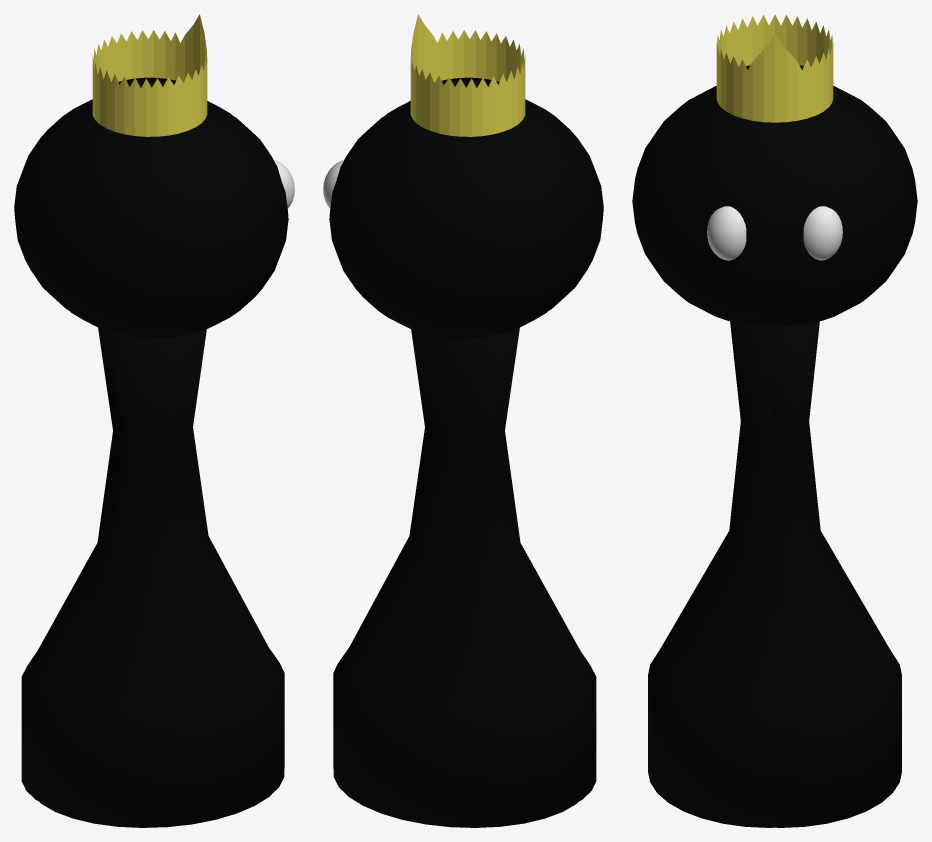
The model's file is BlackQueen.fbx.
The picture shows the model from 3 angles, left to right: view 1: azimuth 30°, elevation 25°; view 2: azimuth 150°, elevation 25°; view 3: azimuth 270°, elevation 25°; orthographic projection.
Visible parts, largest first — view 1: BlackQueen; view 2: BlackQueen; view 3: BlackQueen.
Part boxes in pixels (x1,y1,x2,y2): BlackQueen: (14,14,294,827); BlackQueen: (323,14,603,827); BlackQueen: (632,14,917,827).
Bounding box in the file's own units: 65.33 × 199 × 67.75.
